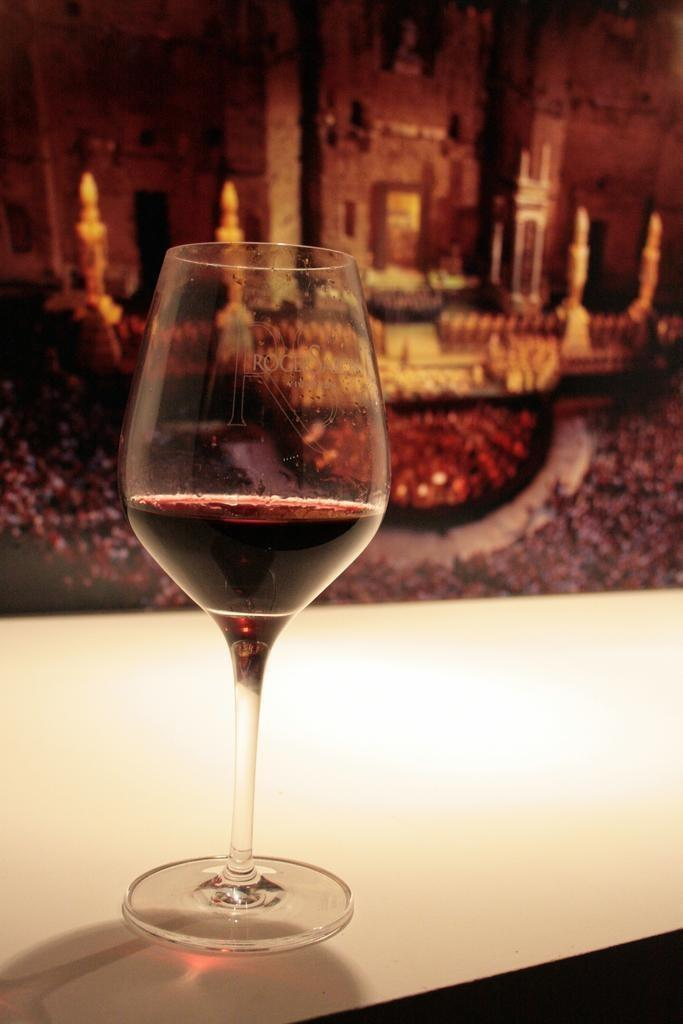glass-wine: (121, 238, 386, 954)
